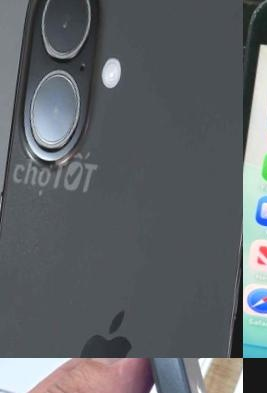scratch: (245, 0, 267, 25)
